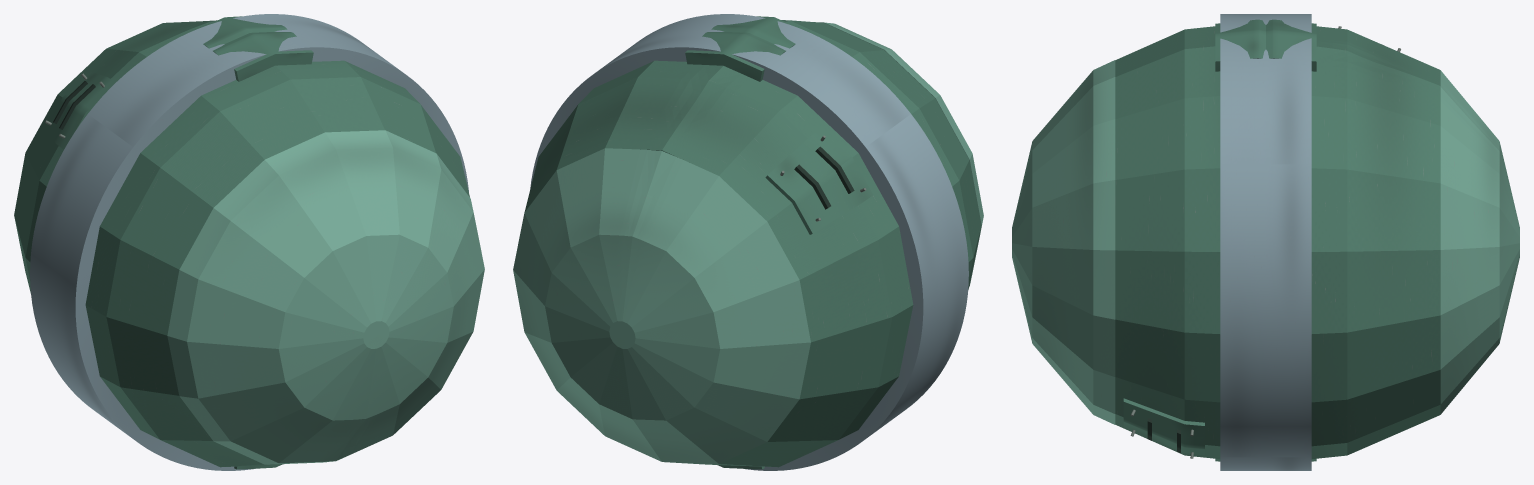
3 renders of one model, left to right at view 1: azimuth 30°, elevation 25°; view 2: azimuth 150°, elevation 25°; view 3: azimuth 270°, elevation 25°, orthographic.
Parts seen in each view (by area): view 1: Artemian Saviour red forward cap, Artemian Saviour green forward shell, Artemian Saviour silver-blue transverse belt, Artemian Saviour green rear shell, Artemian Saviour green longitudinal strap 1, Artemian Saviour service cover 1, Artemian Saviour green longitudinal strap 3; view 2: Artemian Saviour red rear cap, Artemian Saviour green rear shell, Artemian Saviour silver-blue transverse belt, Artemian Saviour green forward shell, Artemian Saviour service cover 1, Artemian Saviour green longitudinal strap 3, Artemian Saviour red forward cap, Artemian Saviour green longitudinal strap 1; view 3: Artemian Saviour green rear shell, Artemian Saviour green forward shell, Artemian Saviour silver-blue transverse belt, Artemian Saviour red forward cap, Artemian Saviour red rear cap, Artemian Saviour service cover 0, Artemian Saviour green longitudinal strap 1, Artemian Saviour green longitudinal strap 3.
Boxes of the visible parts, x1=… form: Artemian Saviour red forward cap: x1=167, y1=130, x2=484, y2=464; Artemian Saviour green forward shell: x1=85, y1=60, x2=469, y2=467; Artemian Saviour silver-blue transverse belt: x1=30, y1=14, x2=468, y2=470; Artemian Saviour green rear shell: x1=14, y1=20, x2=216, y2=293; Artemian Saviour green longitudinal strap 1: x1=213, y1=32, x2=313, y2=81; Artemian Saviour service cover 1: x1=45, y1=71, x2=115, y2=149; Artemian Saviour green longitudinal strap 3: x1=202, y1=16, x2=287, y2=48; Artemian Saviour red rear cap: x1=513, y1=148, x2=810, y2=463; Artemian Saviour green rear shell: x1=524, y1=60, x2=913, y2=467; Artemian Saviour silver-blue transverse belt: x1=530, y1=14, x2=968, y2=470; Artemian Saviour green forward shell: x1=781, y1=20, x2=981, y2=289; Artemian Saviour service cover 1: x1=765, y1=128, x2=872, y2=234; Artemian Saviour green longitudinal strap 3: x1=685, y1=32, x2=785, y2=81; Artemian Saviour red forward cap: x1=815, y1=22, x2=983, y2=286; Artemian Saviour green longitudinal strap 1: x1=711, y1=16, x2=796, y2=48; Artemian Saviour green rear shell: x1=1311, y1=26, x2=1440, y2=458; Artemian Saviour green forward shell: x1=1115, y1=26, x2=1220, y2=458; Artemian Saviour silver-blue transverse belt: x1=1220, y1=14, x2=1311, y2=470; Artemian Saviour red forward cap: x1=1012, y1=60, x2=1115, y2=424; Artemian Saviour red rear cap: x1=1440, y1=70, x2=1519, y2=414; Artemian Saviour service cover 0: x1=1123, y1=398, x2=1204, y2=455; Artemian Saviour green longitudinal strap 1: x1=1215, y1=19, x2=1265, y2=71; Artemian Saviour green longitudinal strap 3: x1=1266, y1=19, x2=1316, y2=71.
Size of the model in its own units: 0.9 by 0.92 by 1.
Materials: 5 (3 with a texture image).
